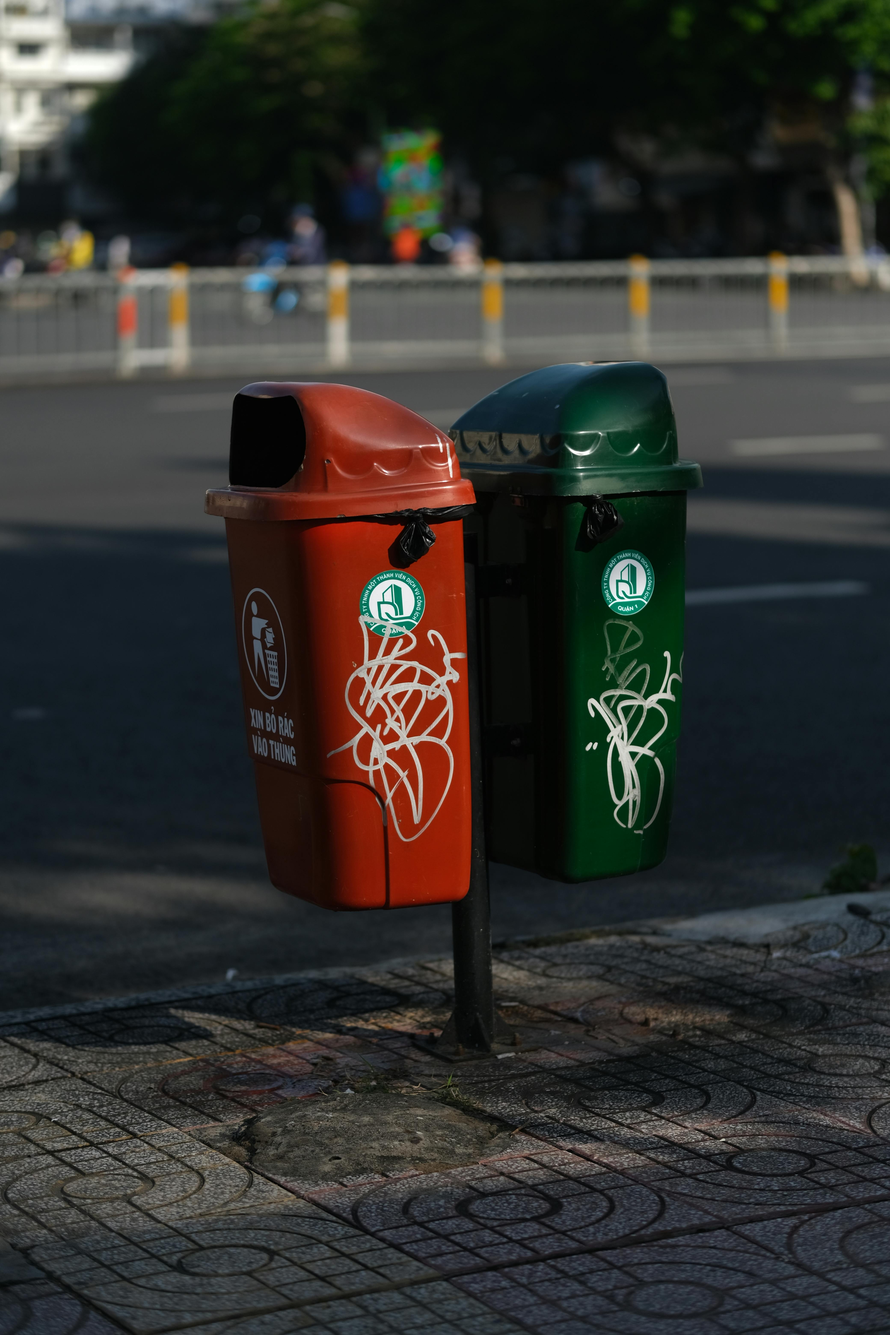TrashBin: (175, 355, 507, 914), (440, 346, 706, 891)
